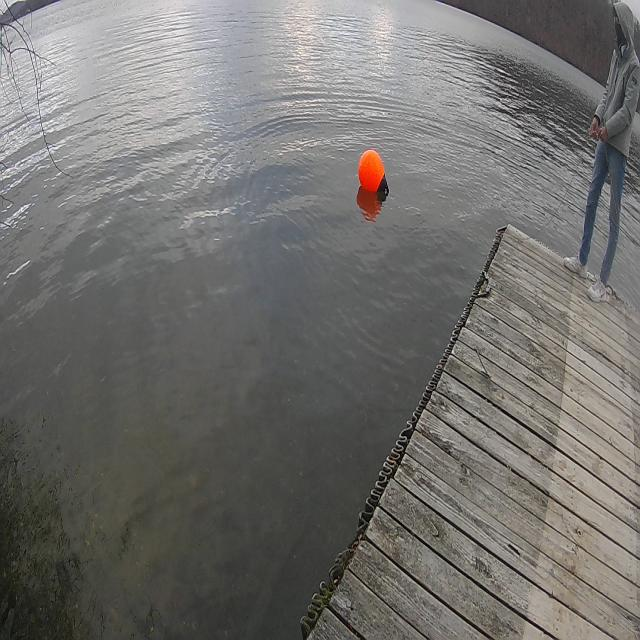Buoy: (350, 134, 397, 214)
